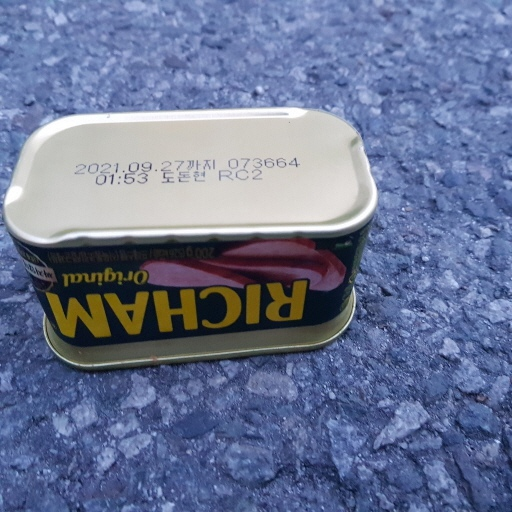Metal_2: (2, 108, 379, 374)
